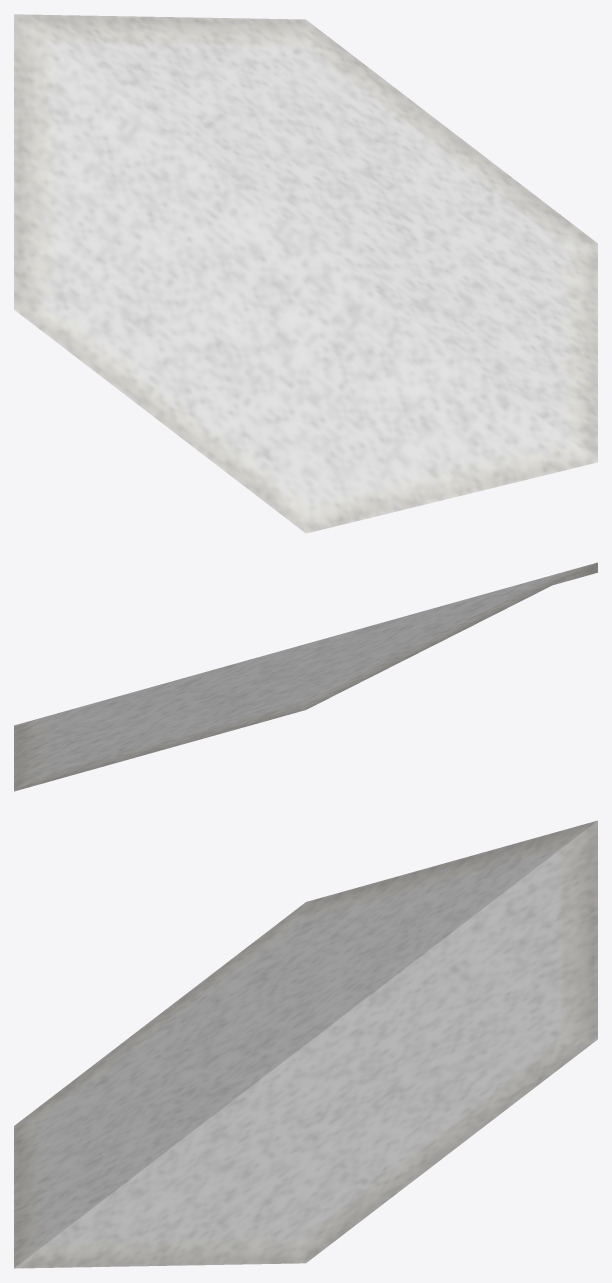
Rendered from HexaTile_PCC_A.FBX.
3 views of the same model, one above another, from view 1: azimuth 30°, elevation 25°; view 2: azimuth 210°, elevation 25°; view 3: azimuth 270°, elevation 25° (orthographic).
Visible parts, largest first — view 1: HexaTile_PCC_A; view 2: HexaTile_PCC_A; view 3: HexaTile_PCC_A.
Part boxes in pixels (<box>): HexaTile_PCC_A: <box>14,14,597,533</box>; HexaTile_PCC_A: <box>14,562,597,791</box>; HexaTile_PCC_A: <box>14,820,597,1268</box>.
Bounding box in the file's own units: 1 × 0.5 × 0.866.
